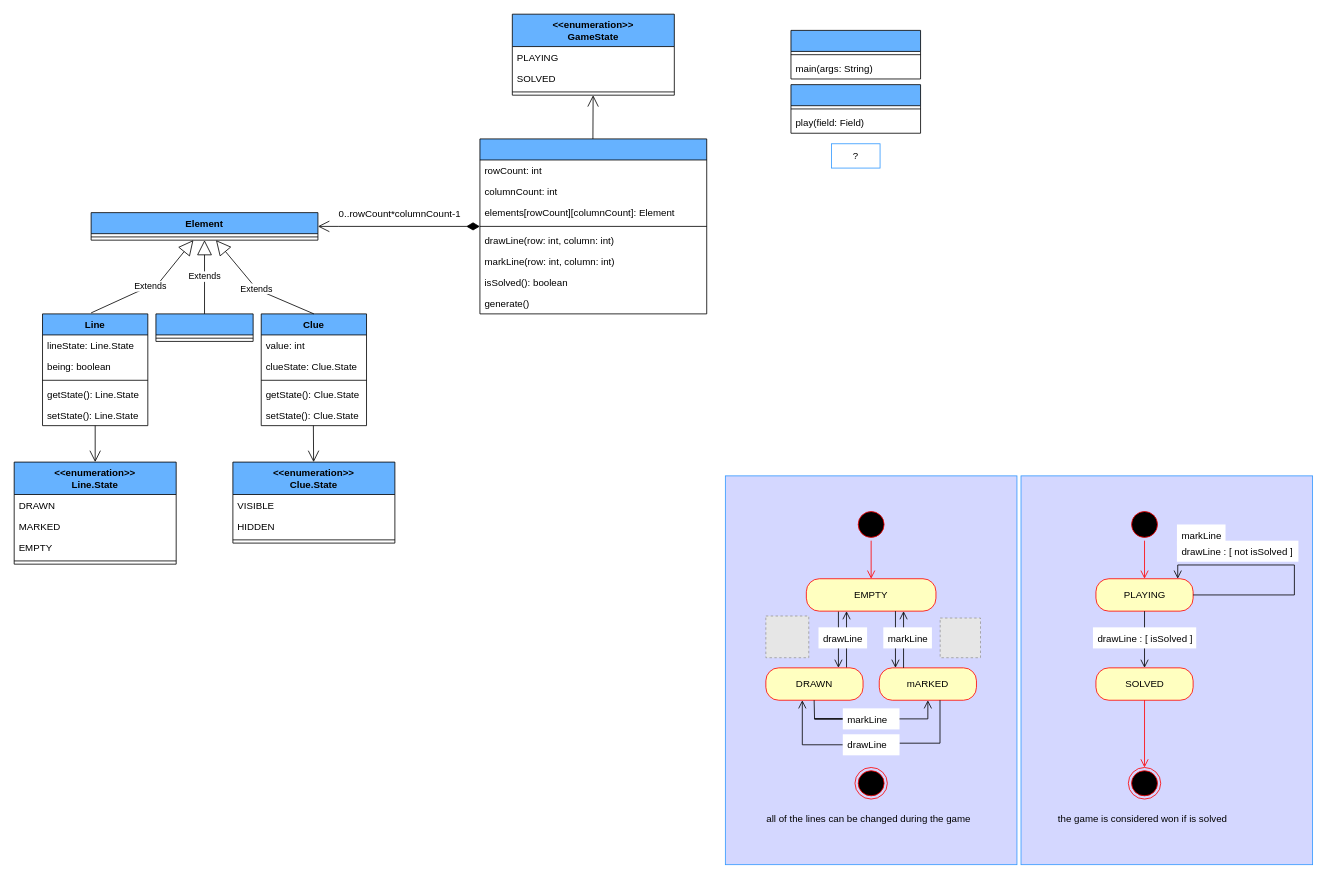
Some shapes in this 1327 by 879 pixel diagram are drawn without their labels. Grey dashed boxes stand in for pictures. The box of each missing label's shape, as (x1, y1, x2, y2) in pixels:
ConsoleUI: (790, 84, 921, 133)
Dot: (155, 313, 253, 341)
Field: (479, 138, 707, 314)
Slitherlink: (790, 30, 921, 79)
